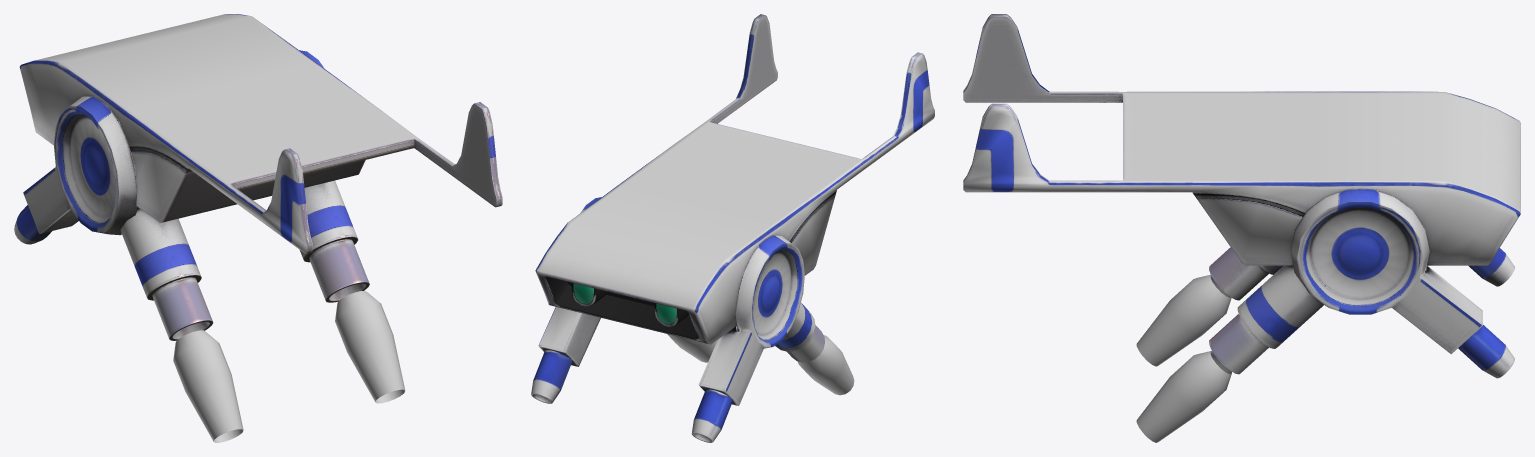
The model's file is drone.FBX.
3 renders of one model, left to right at view 1: azimuth 30°, elevation 25°; view 2: azimuth 150°, elevation 25°; view 3: azimuth 270°, elevation 25°, orthographic. The views are drawn at different scales.
Visible parts, largest first — view 1: Box001, Object002; view 2: Box001, Object002; view 3: Box001, Object002.
Boxes of the visible parts, box(x1,y1,x2,y2) form: Box001: box(14, 14, 502, 340); Object002: box(173, 291, 405, 442); Box001: box(531, 14, 934, 442); Object002: box(667, 334, 854, 395); Box001: box(963, 14, 1520, 378); Object002: box(1136, 274, 1231, 442).
Size of the model in its own units: 2.5 by 3.73 by 5.5.
